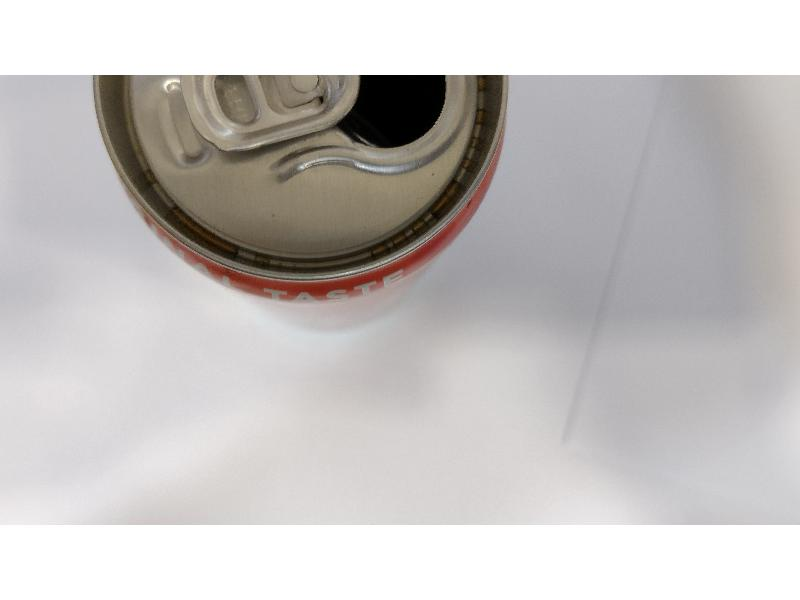can: (82, 75, 520, 334)
